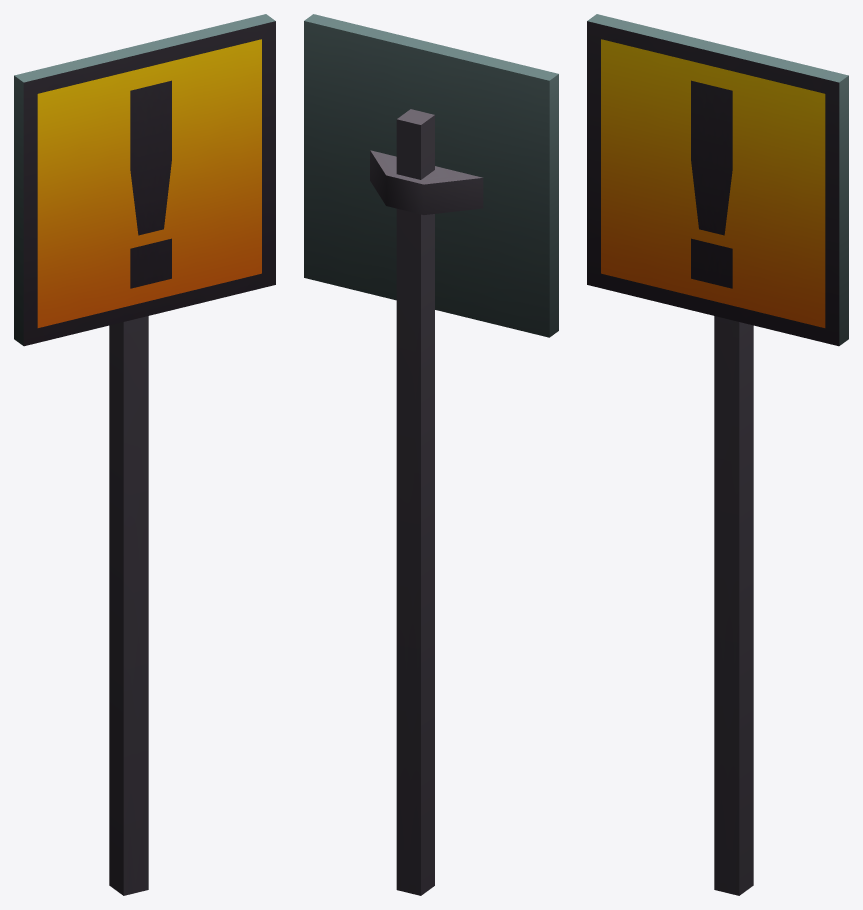
File: Streetsign_2I.fbx
3 renders of one model, left to right at view 1: azimuth 30°, elevation 25°; view 2: azimuth 150°, elevation 25°; view 3: azimuth 330°, elevation 25°, orthographic. The views are drawn at different scales.
Visible parts, largest first — view 1: Streetsign_2I; view 2: Streetsign_2I; view 3: Streetsign_2I.
Boxes of the visible parts, x1,y1,x2,y2 form: Streetsign_2I: (14,14,275,895); Streetsign_2I: (304,14,558,895); Streetsign_2I: (587,14,848,895).
Size of the model in its own units: 0.9 by 2.9 by 0.2066.
